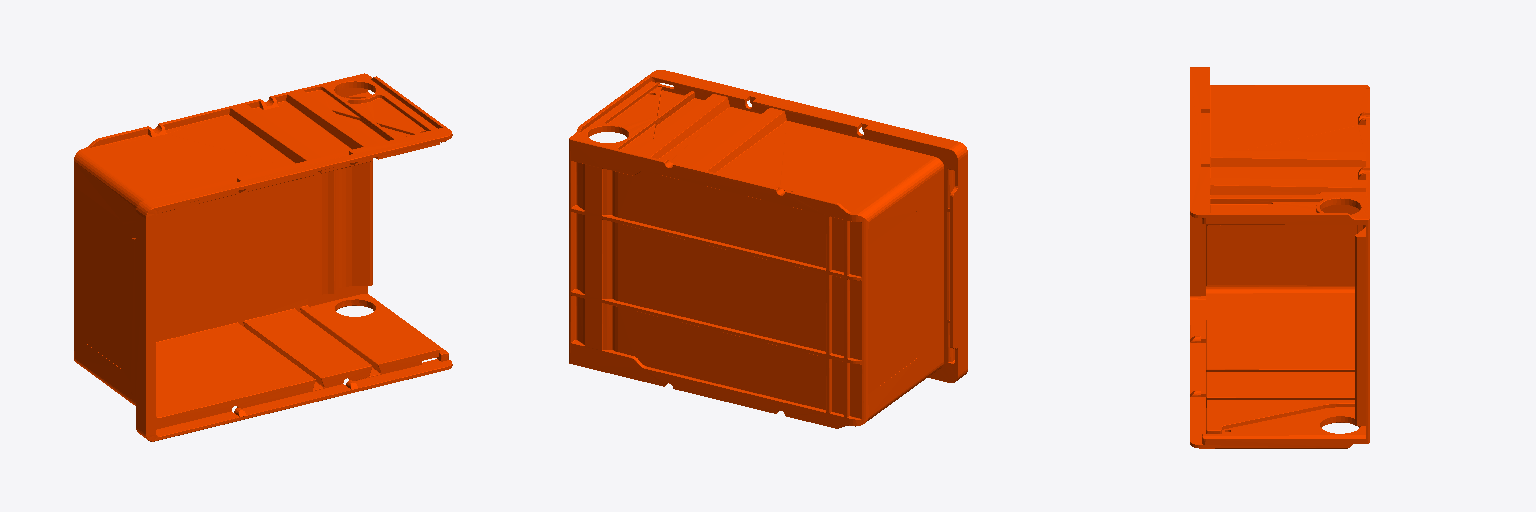
The picture shows the model from 3 angles: view 1: azimuth 30°, elevation 25°; view 2: azimuth 150°, elevation 25°; view 3: azimuth 270°, elevation 25°; orthographic projection.
Visible parts, largest first — view 1: materialbox; view 2: materialbox; view 3: materialbox.
Boxes of the visible parts, x1,y1,x2,y2 form: materialbox: [74, 73, 452, 441]; materialbox: [569, 70, 967, 428]; materialbox: [1190, 67, 1369, 448].
Bounding box in the file's own units: 0.175 × 0.126 × 0.0881.
Materials: 1 (1 with a texture image).